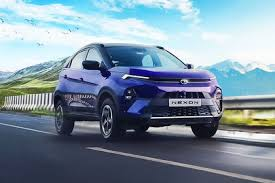Tata Nexon: (50, 40, 225, 149)
